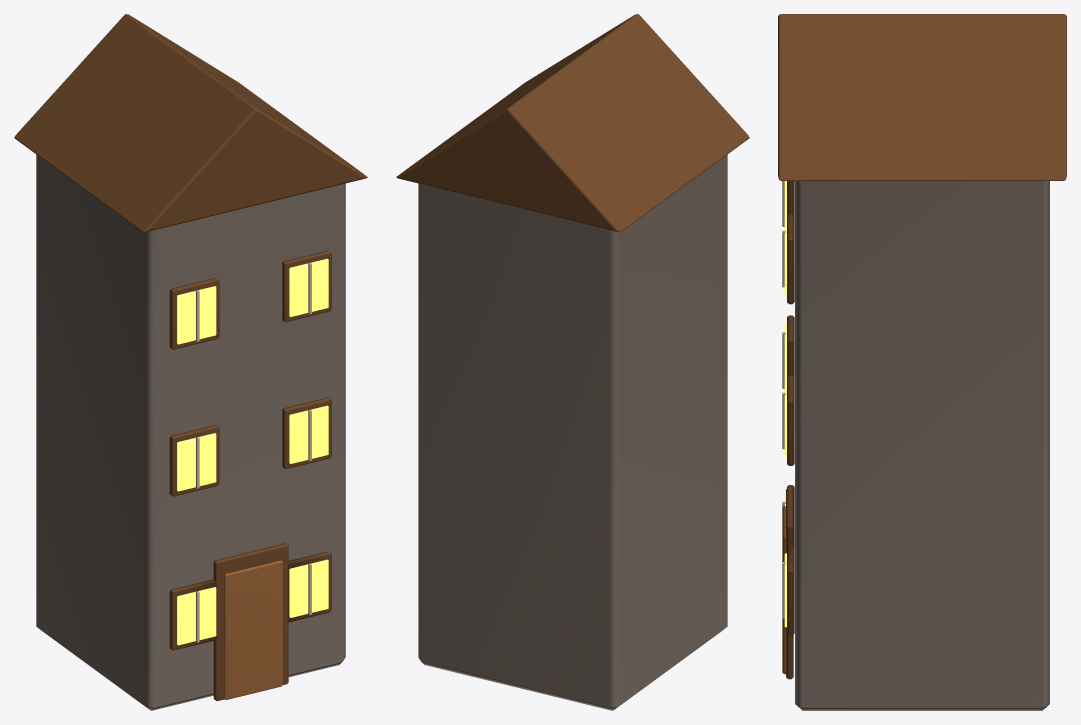
File: townhouse.glb
3 views of the same model, side by side, from view 1: azimuth 30°, elevation 25°; view 2: azimuth 150°, elevation 25°; view 3: azimuth 270°, elevation 25° (orthographic). The views are drawn at different scales.
Parts seen in each view (by area): view 1: townhouse; view 2: townhouse; view 3: townhouse.
Part boxes in pixels (bbox=[...]): townhouse: bbox=[14, 14, 367, 710]; townhouse: bbox=[396, 14, 749, 710]; townhouse: bbox=[778, 14, 1066, 710].
Bounding box in the file's own units: 3.36 × 8.39 × 3.4.
